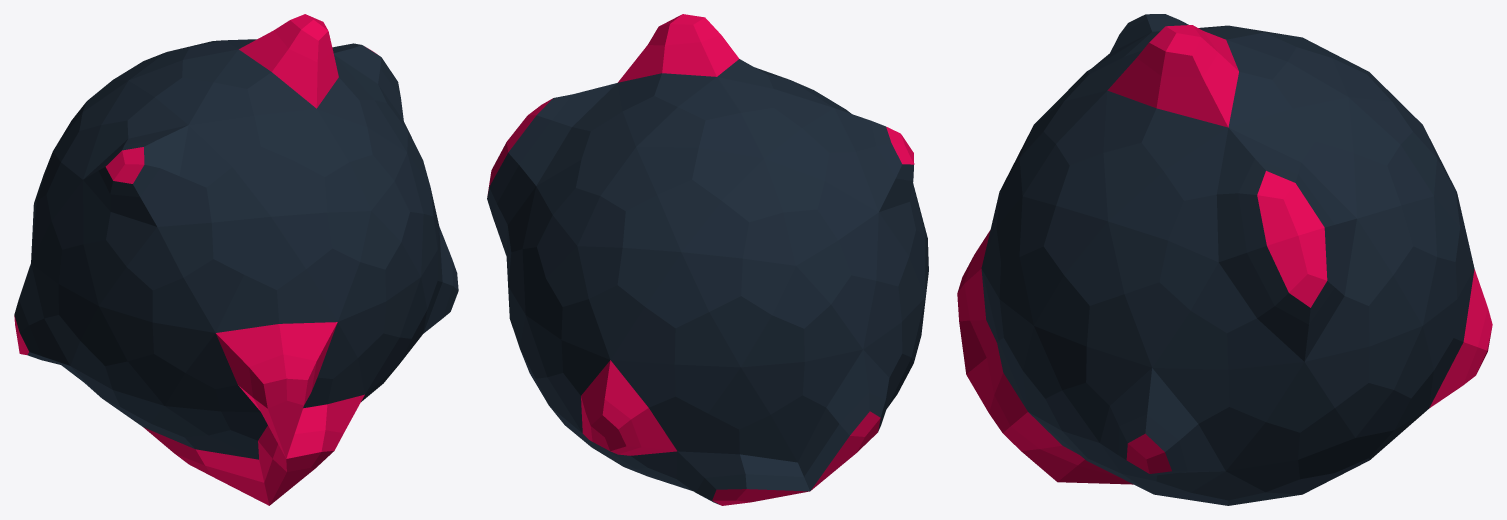
The model's file is Planet4Evo3.glb.
3 renders of one model, left to right at view 1: azimuth 30°, elevation 25°; view 2: azimuth 150°, elevation 25°; view 3: azimuth 270°, elevation 25°, orthographic. The views are drawn at different scales.
Parts seen in each view (by area): view 1: Icosphere.059; view 2: Icosphere.059; view 3: Icosphere.059.
Boxes of the visible parts, bbox=[...] form: Icosphere.059: bbox=[14, 14, 458, 505]; Icosphere.059: bbox=[487, 14, 928, 505]; Icosphere.059: bbox=[957, 14, 1492, 505].
Bounding box in the file's own units: 1.85 × 2 × 1.93.
